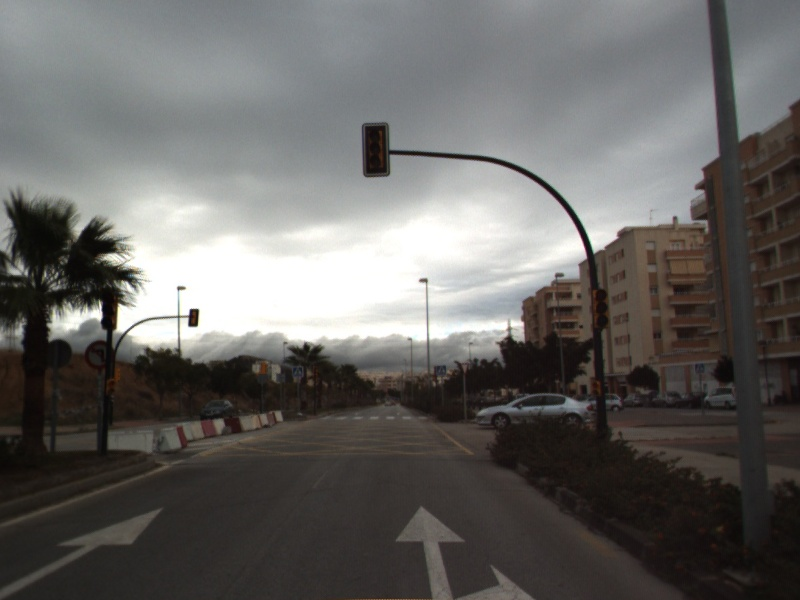STRAIGHT: (1, 505, 167, 600)
STRAIGHT_RIGHT: (393, 503, 539, 600)
